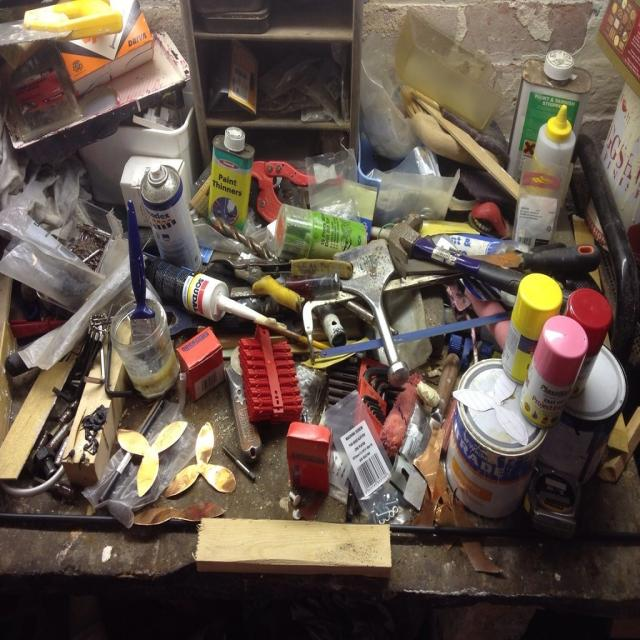Plastics: (466, 270, 619, 453)
